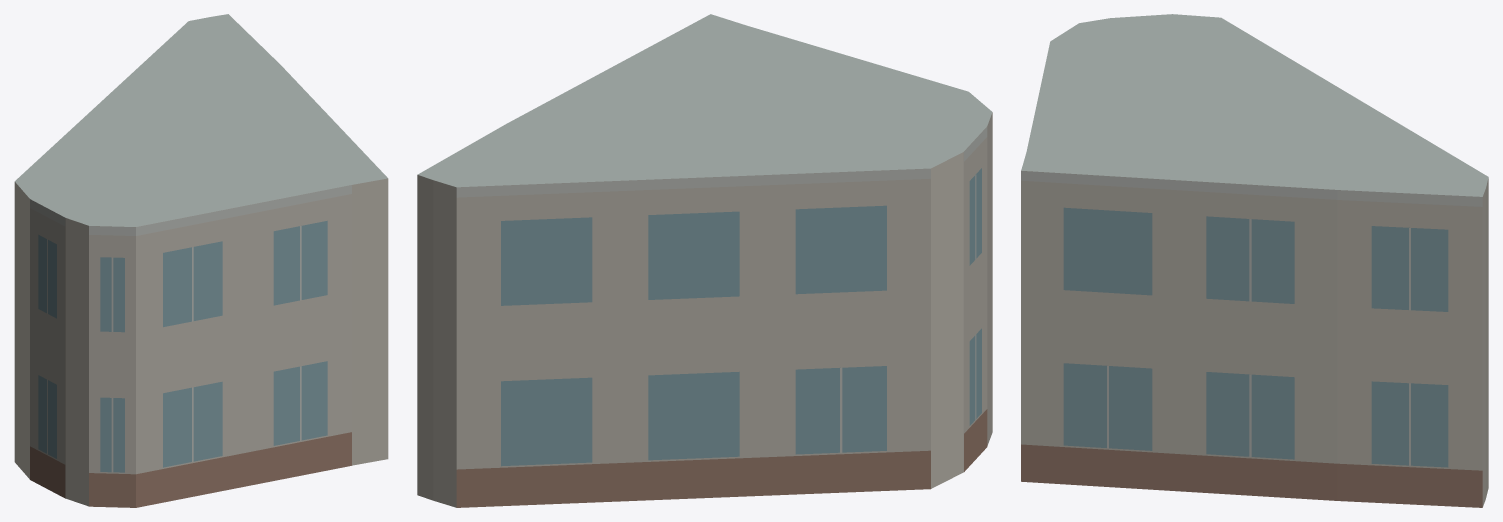
The model's file is survey-upis-33022336.glb.
3 views of the same model, side by side, from view 1: azimuth 30°, elevation 25°; view 2: azimuth 150°, elevation 25°; view 3: azimuth 270°, elevation 25° (orthographic). The views are drawn at different scales.
Parts seen in each view (by area): view 1: survey-upis-33022336.tmp; view 2: survey-upis-33022336.tmp; view 3: survey-upis-33022336.tmp.
Boxes of the visible parts, x1,y1,x2,y2 form: survey-upis-33022336.tmp: [14, 14, 388, 507]; survey-upis-33022336.tmp: [417, 14, 992, 507]; survey-upis-33022336.tmp: [1021, 14, 1488, 507].
Bounding box in the file's own units: 9.6 × 7.6 × 10.36.
